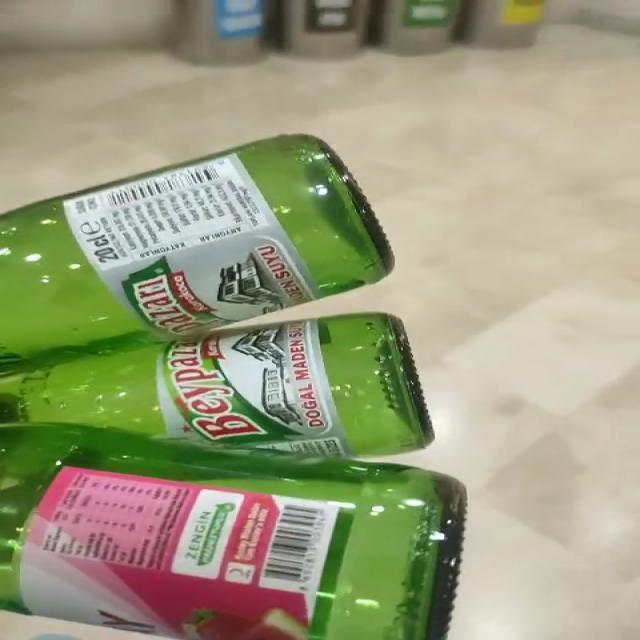Glass: (0, 135, 463, 640)
